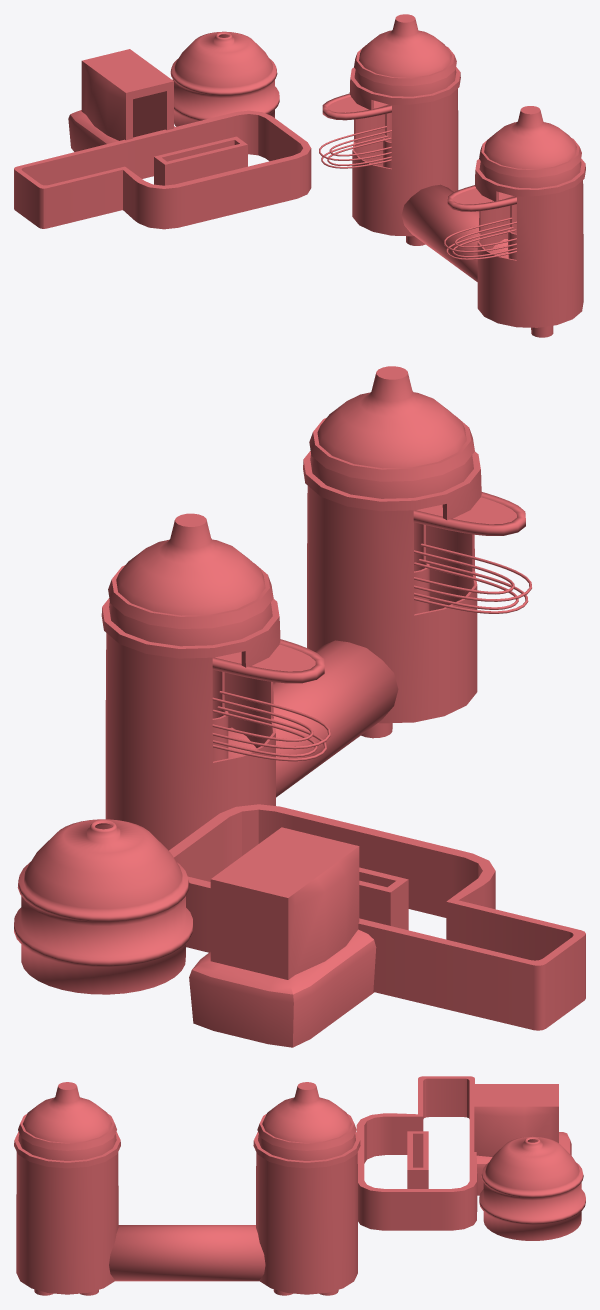
3 views of the same model, one above another, from view 1: azimuth 30°, elevation 25°; view 2: azimuth 150°, elevation 25°; view 3: azimuth 270°, elevation 25° (orthographic). The views are drawn at different scales.
Parts seen in each view (by area): view 1: TapisSupport, Circle.006, Circle.003, RobotArmCase, LiquidBombone, Circle.002, Circle.005, Cylinder, Circle.004, Circle.001, Cube.003, Cube.001; view 2: TapisSupport, RobotArmCase, Circle.006, Circle.003, LiquidBombone, Circle.002, Circle.005, Cylinder, Circle.001, Circle.004, Cube.003, Cube.001; view 3: Circle.006, Circle.003, TapisSupport, LiquidBombone, Cylinder, Circle.002, Circle.005, RobotArmCase.
Part boxes in pixels (bbox=[...]): TapisSupport: bbox=[14, 110, 311, 229]; Circle.006: bbox=[477, 180, 583, 337]; Circle.003: bbox=[352, 88, 458, 245]; RobotArmCase: bbox=[68, 49, 174, 151]; LiquidBombone: bbox=[170, 31, 279, 126]; Circle.002: bbox=[328, 14, 460, 112]; Circle.005: bbox=[453, 106, 585, 204]; Cylinder: bbox=[401, 184, 508, 281]; Circle.004: bbox=[444, 217, 516, 260]; Circle.001: bbox=[319, 126, 391, 168]; Cube.003: bbox=[322, 93, 391, 120]; Cube.001: bbox=[447, 185, 516, 211]; TapisSupport: bbox=[169, 804, 585, 1030]; RobotArmCase: bbox=[189, 827, 376, 1047]; Circle.006: bbox=[307, 486, 477, 738]; Circle.003: bbox=[105, 633, 275, 850]; LiquidBombone: bbox=[14, 819, 192, 994]; Circle.002: bbox=[101, 513, 315, 671]; Circle.005: bbox=[303, 366, 516, 524]; Cylinder: bbox=[228, 640, 398, 797]; Circle.001: bbox=[212, 691, 330, 761]; Circle.004: bbox=[414, 543, 531, 613]; Cube.003: bbox=[212, 639, 324, 683]; Cube.001: bbox=[413, 492, 525, 535]; Circle.006: bbox=[16, 1152, 118, 1295]; Circle.003: bbox=[256, 1152, 357, 1295]; TapisSupport: bbox=[356, 1076, 477, 1230]; LiquidBombone: bbox=[479, 1136, 585, 1240]; Cylinder: bbox=[109, 1225, 265, 1281]; Circle.002: bbox=[253, 1082, 360, 1168]; Circle.005: bbox=[14, 1082, 120, 1168]; RobotArmCase: bbox=[474, 1084, 571, 1195].
Bounding box in the file's own units: 1386 × 802 × 2026.
